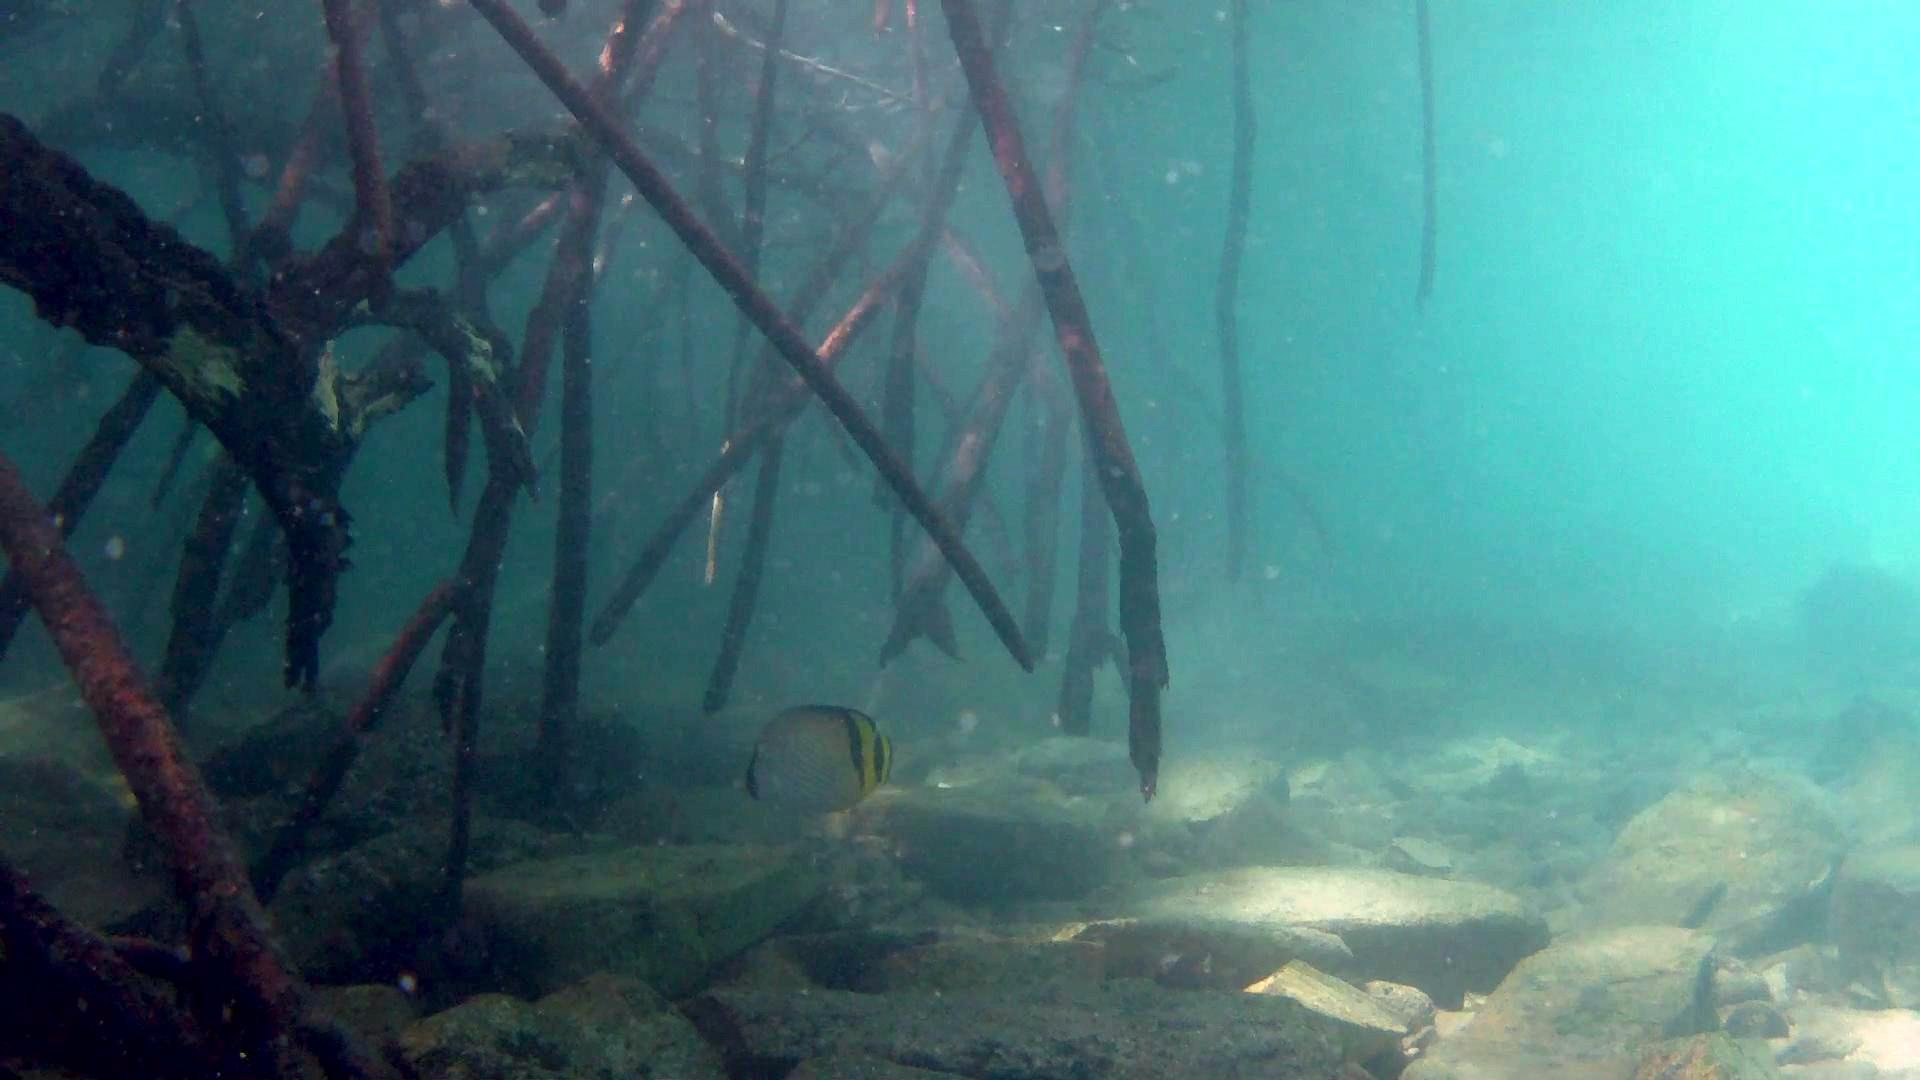chaetodon vagabundus: (724, 699, 901, 818)
